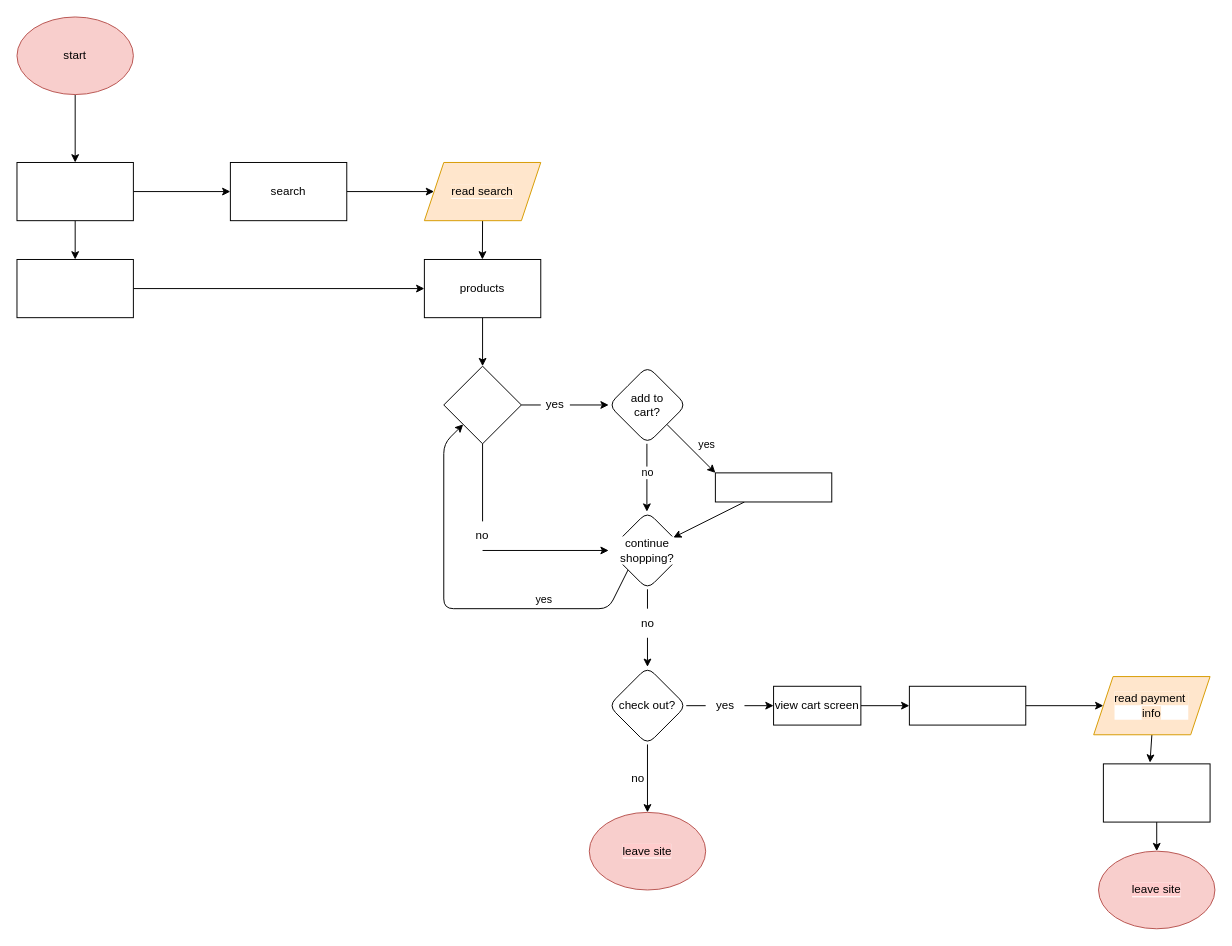
The diagram is 1232 pixels wide and 946 high, and some of its shapes have lost their labels. The shapes that lost their labels are listed below. From the top down, each one's centre as x and y in pixels, then its label:
At point 74,191: "first webpage".
At point 74,288: "explore site".
At point 482,404: "view product?".
At point 773,487: "product added to cart".
At point 967,705: "view payment screen".
At point 1156,792: "order confirmation screen and send email".
